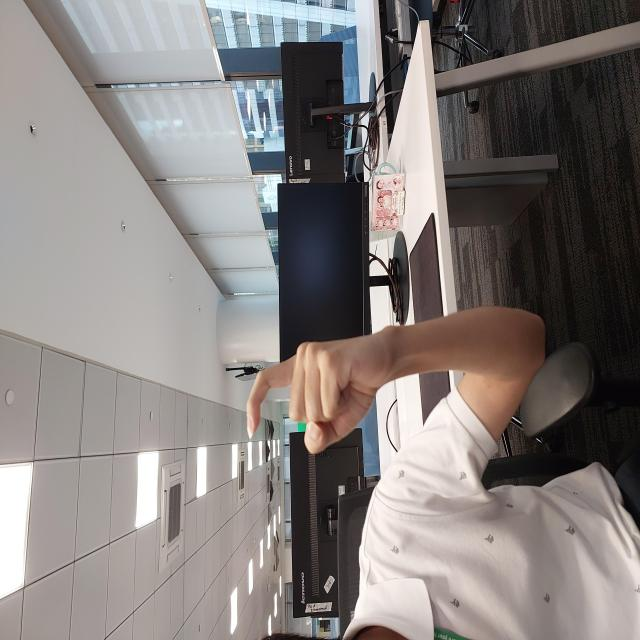X: (182, 242, 310, 402)
